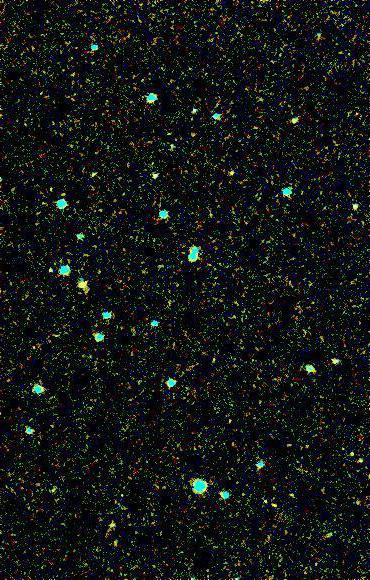star: (215, 158, 245, 188)
